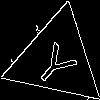Y: (31, 34, 85, 91)
